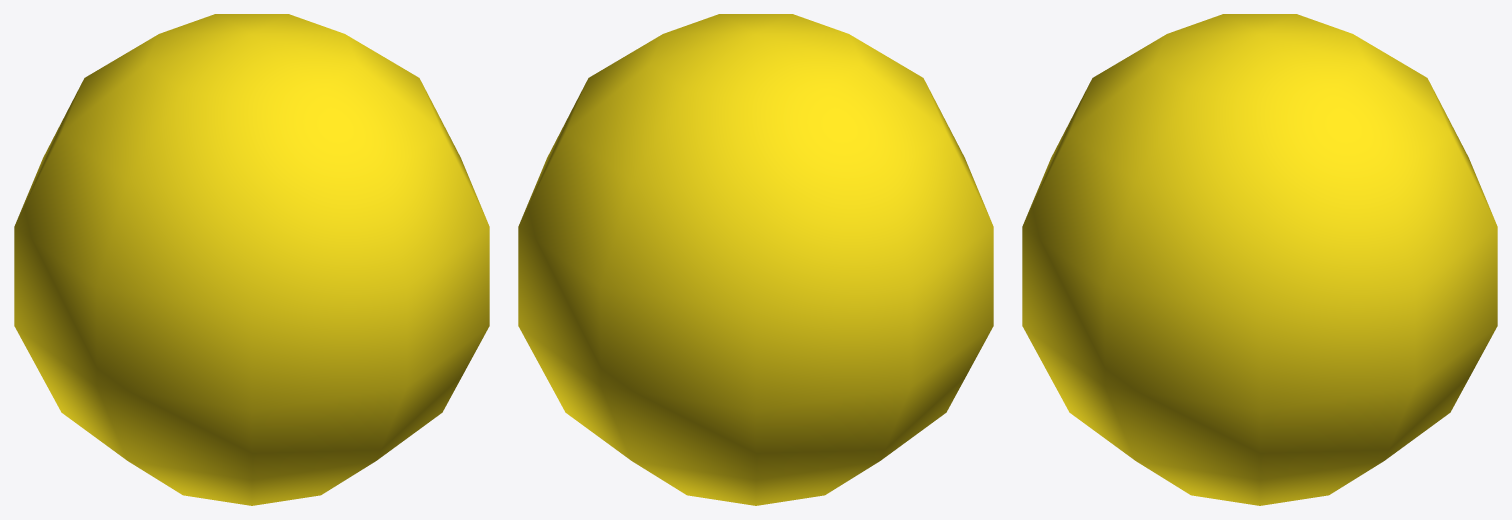
File: trovissideo_stage1.obj
3 views of the same model, side by side, from view 1: azimuth 30°, elevation 25°; view 2: azimuth 150°, elevation 25°; view 3: azimuth 270°, elevation 25° (orthographic).
Bounding box in the file's own units: 1.32 × 1.4 × 1.34.
